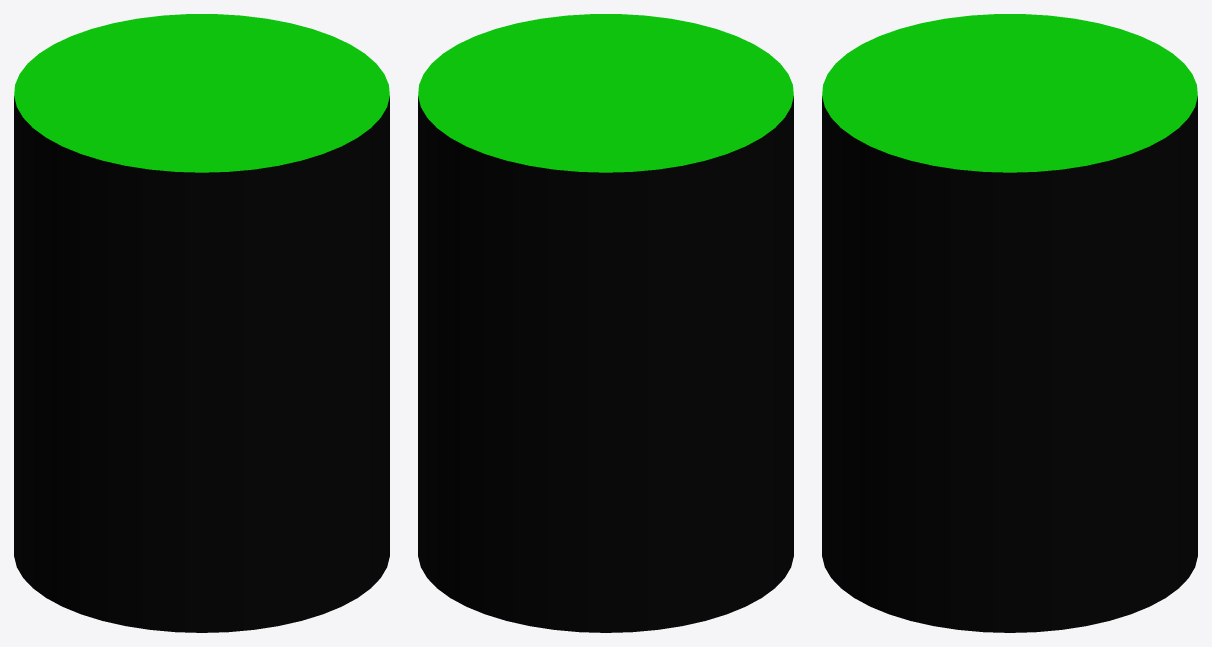
Rendered from bumper - canister A.fbx.
3 renders of one model, left to right at view 1: azimuth 30°, elevation 25°; view 2: azimuth 150°, elevation 25°; view 3: azimuth 270°, elevation 25°, orthographic.
Visible parts, largest first — view 1: canister_A; view 2: canister_A; view 3: canister_A.
Boxes of the visible parts, x1,y1,x2,y2 form: canister_A: [14, 14, 389, 632]; canister_A: [418, 14, 793, 632]; canister_A: [822, 14, 1197, 632].
Size of the model in its own units: 111 by 150 by 111.
